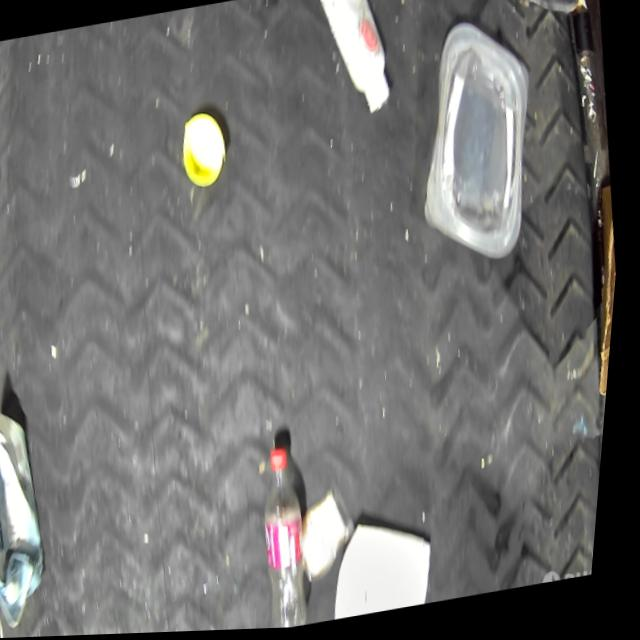non_white_jug: (480, 0, 593, 34)
plastic_bottle: (255, 442, 332, 631)
